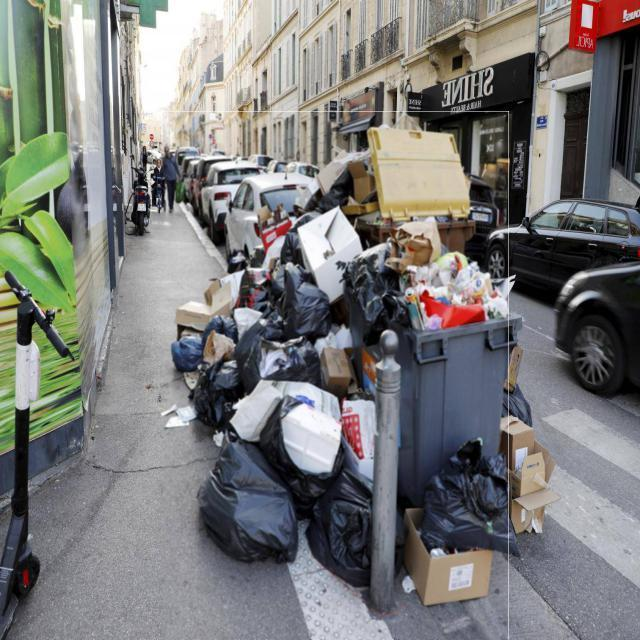Trashbag: (422, 445, 530, 562), (208, 442, 294, 568), (314, 476, 402, 582), (342, 244, 410, 338), (235, 322, 312, 383), (280, 259, 333, 333), (193, 359, 247, 427), (205, 310, 240, 352), (172, 332, 208, 371), (502, 385, 533, 430)
